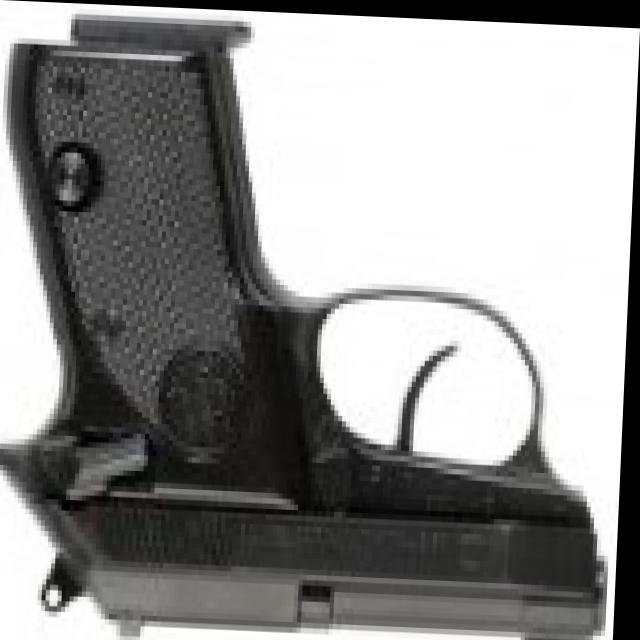handgun: (0, 16, 639, 640)
